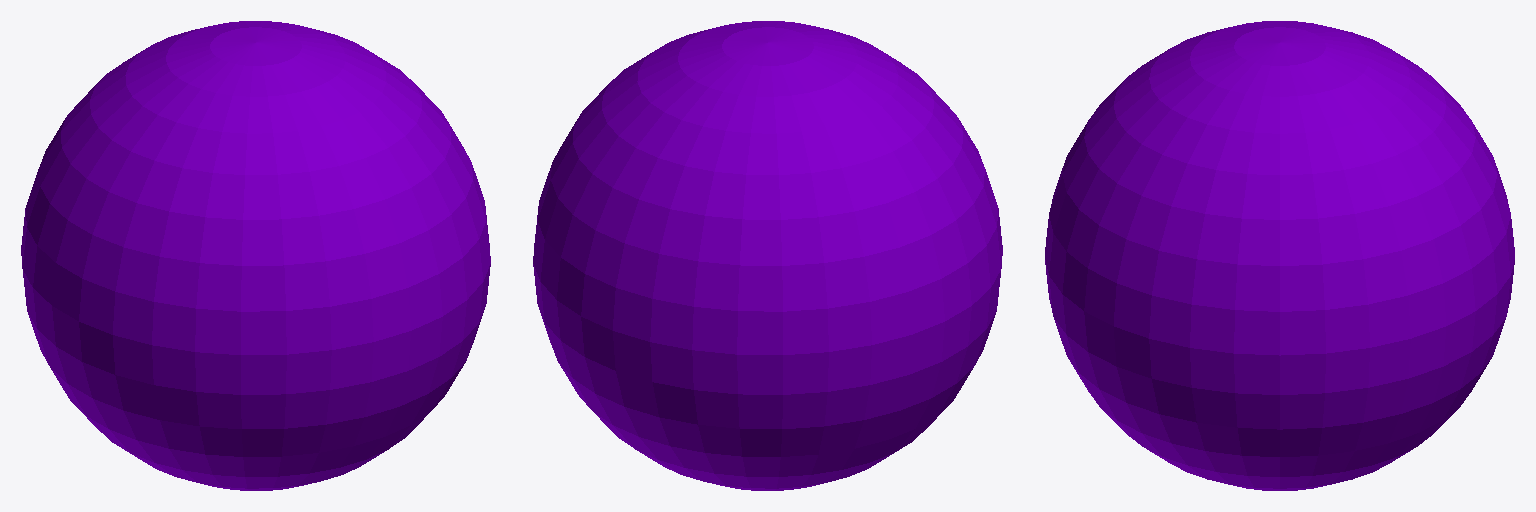
File: metallic_sphere.obj
3 renders of one model, left to right at view 1: azimuth 30°, elevation 25°; view 2: azimuth 150°, elevation 25°; view 3: azimuth 270°, elevation 25°, orthographic.
Visible parts, largest first — view 1: Sphere; view 2: Sphere; view 3: Sphere.
Part boxes in pixels (bbox=[...]): Sphere: bbox=[21, 21, 490, 490]; Sphere: bbox=[533, 21, 1002, 490]; Sphere: bbox=[1045, 21, 1514, 490].
Bounding box in the file's own units: 2 × 2 × 2.